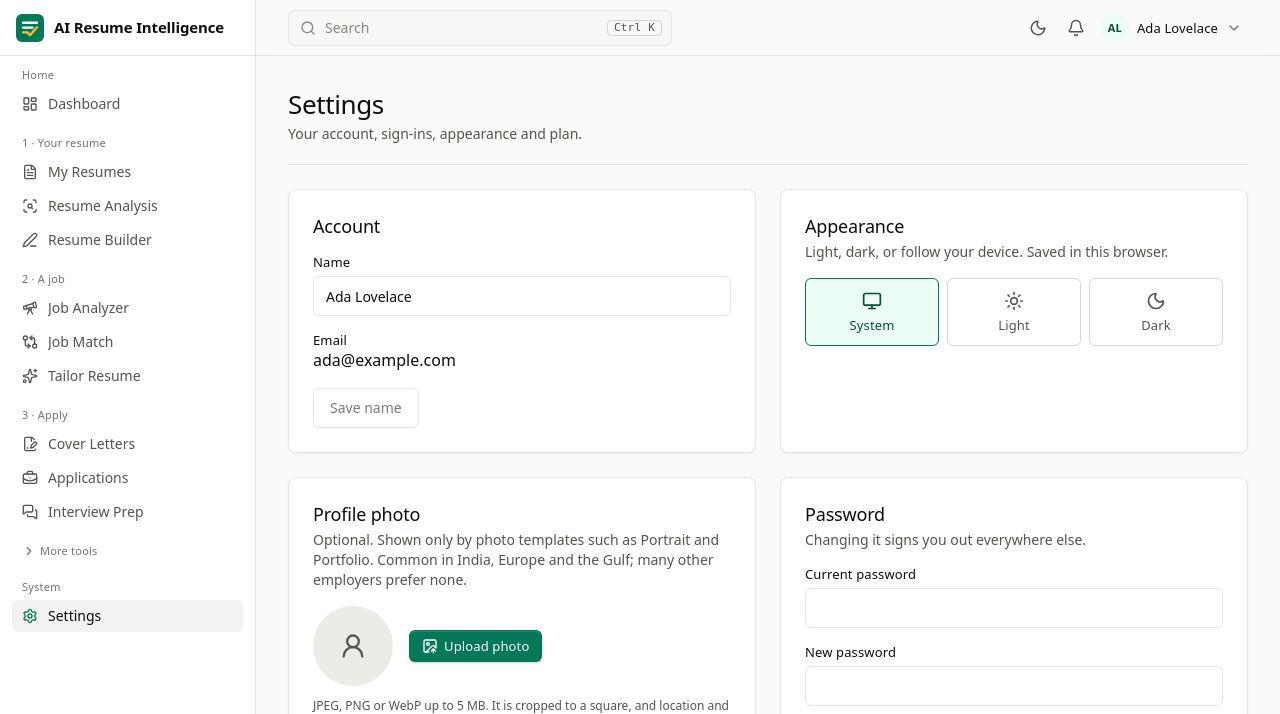
Settings › saves a new name
The image size is (1280, 714).
Replace the text in the field labelled "Name" with "Ada King" at {"x": 522, "y": 296}, box [313, 276, 731, 316]
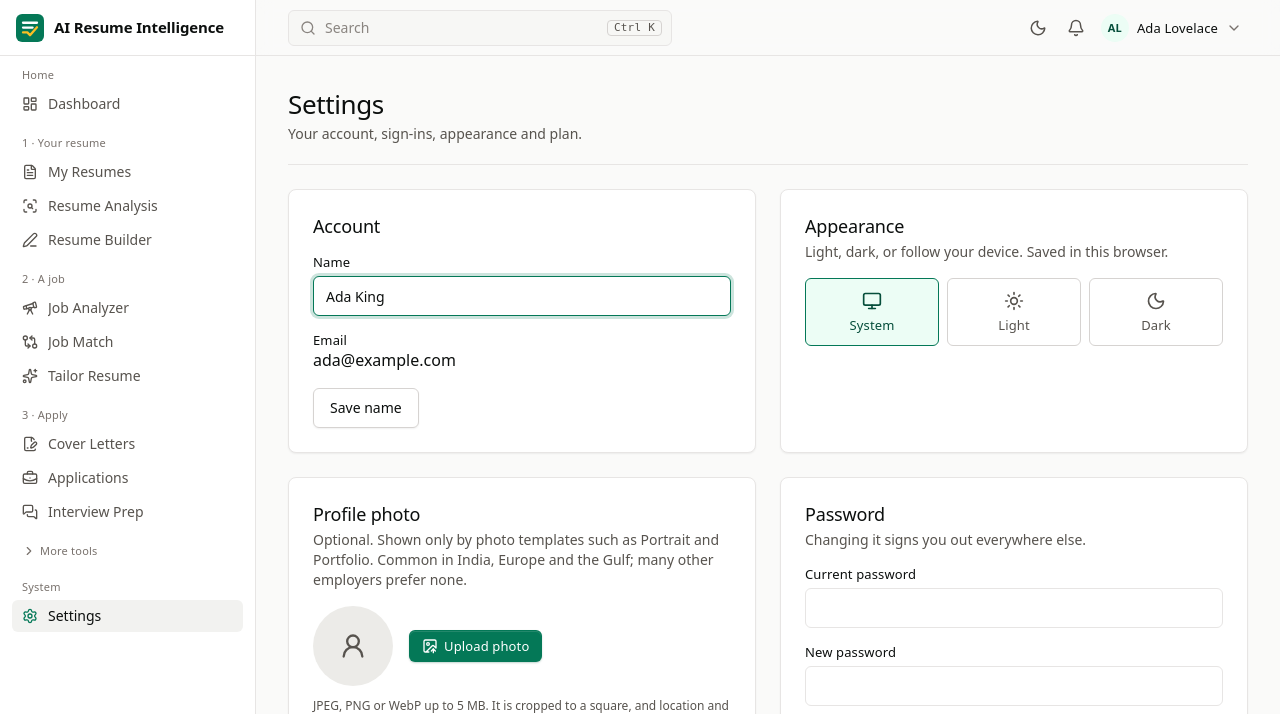
Click the button "Save name".
click(366, 408)  # box [313, 388, 419, 428]
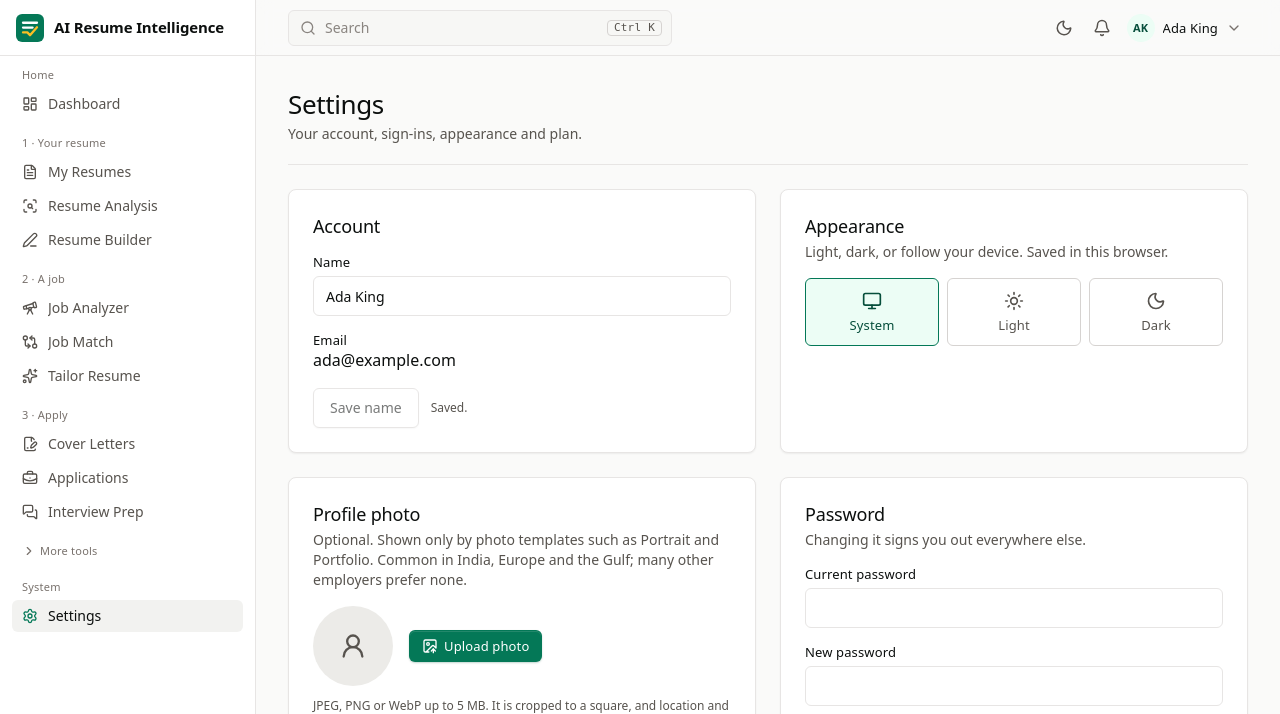
expect the text "Saved." is shown: met, box [431, 400, 468, 416]
